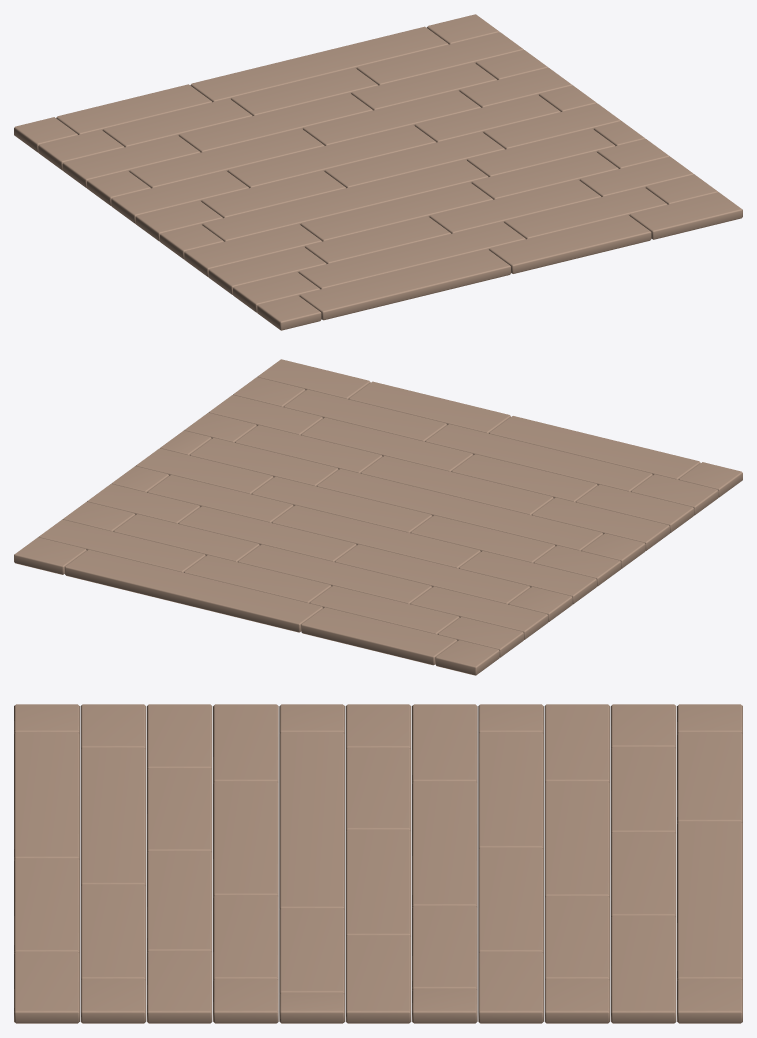
Rendered from Floor_woodblock_1.glb.
3 views of the same model, one above another, from view 1: azimuth 30°, elevation 25°; view 2: azimuth 150°, elevation 25°; view 3: azimuth 270°, elevation 25° (orthographic). The views are drawn at different scales.
Visible parts, largest first — view 1: Floor_8; view 2: Floor_8; view 3: Floor_8.
Part boxes in pixels (bbox=[...]): Floor_8: bbox=[14, 14, 742, 330]; Floor_8: bbox=[14, 359, 742, 675]; Floor_8: bbox=[14, 704, 742, 1023].
Bounding box in the file's own units: 5 × 0.1 × 5.
1 material, 1 textured.
